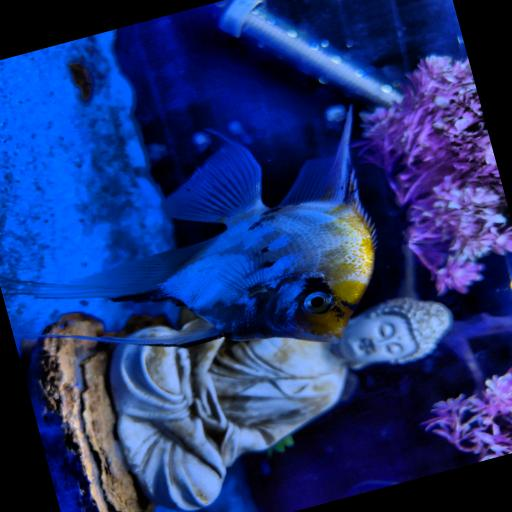Fish: (1, 107, 374, 347)
